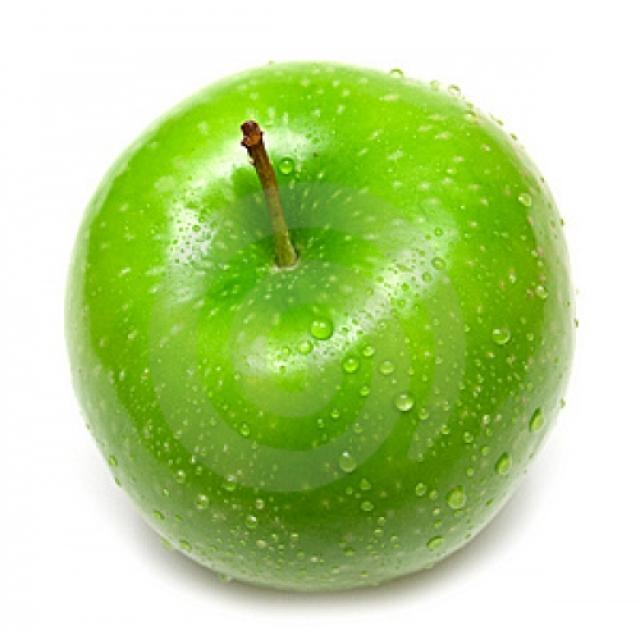Green Apple: (64, 59, 578, 595)
